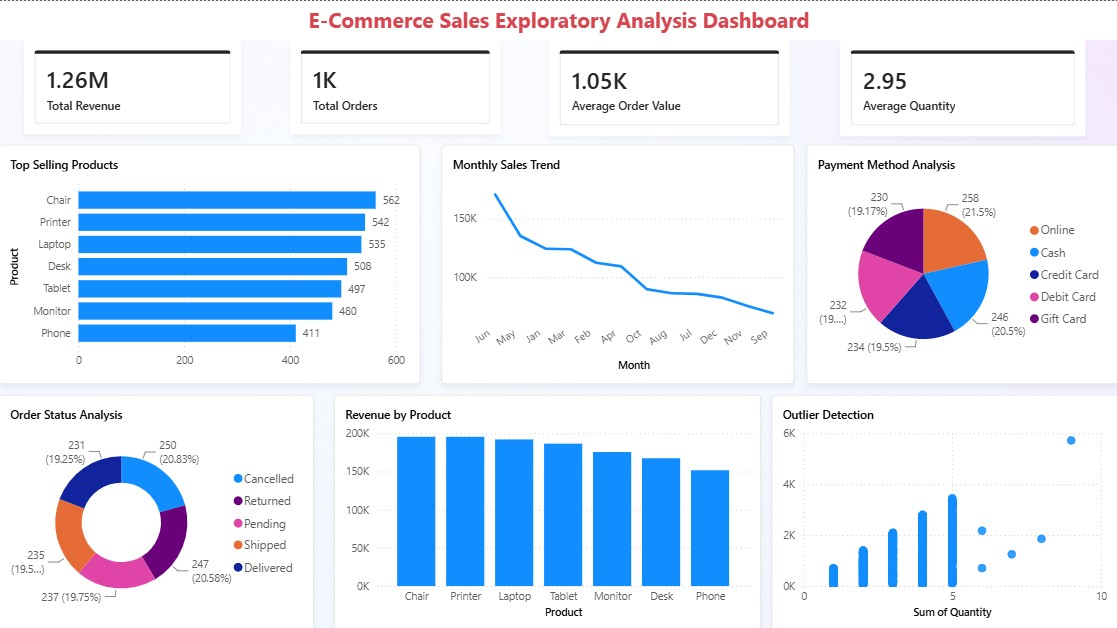

This screenshot's page, from the dashboard's own definition file:
{"tool":"powerbi","page":{"name":"Page 1","canvas":[1280,720],"ordinal":0},"visuals":[{"type":"cardVisual","fields":{"Data":["Sheet1.Total Revenue"]},"box":[28.3,45,248.3,108.3],"z":0},{"type":"cardVisual","fields":{"Data":["Sheet1.Average Quantity"]},"box":[961.7,45,280,110],"z":1},{"type":"cardVisual","fields":{"Data":["Sheet1.Average Order Value"]},"box":[628.3,45,275,110],"z":2},{"type":"cardVisual","fields":{"Data":["Sheet1.Total Orders"]},"box":[333.3,45,240,108.3],"z":3},{"type":"clusteredBarChart","title":"Top Selling Products","fields":{"Category":["Sheet1.Product"],"Y":["Sum(Sheet1.Quantity)"]},"box":[0,165,481.7,273.3],"z":4},{"type":"columnChart","title":"Revenue by Product","fields":{"Category":["Sheet1.Product"],"Y":["Sum(Sheet1.TotalPrice)"]},"box":[383.3,450,488.3,270],"z":5},{"type":"pieChart","title":"Payment Method Analysis","fields":{"Category":["Sheet1.PaymentMethod"],"Y":["CountNonNull(Sheet1.OrderID)"]},"box":[923.3,165,356.7,273.3],"z":6},{"type":"donutChart","title":"Order Status Analysis","fields":{"Category":["Sheet1.OrderStatus"],"Y":["CountNonNull(Sheet1.OrderID)"]},"box":[0,450,360,270],"z":7},{"type":"lineChart","title":"Monthly Sales Trend","fields":{"Category":["Sheet1.Month"],"Y":["Sheet1.Total Revenue"]},"box":[505,165,403.3,273.3],"z":8},{"type":"scatterChart","title":"Outlier Detection","fields":{"X":["Sum(Sheet1.Quantity)"],"Y":["Sum(Sheet1.TotalPrice)"],"Category":["Sheet1.CustomerID"]},"box":[883.3,450,396.7,270],"z":10},{"type":"textbox","box":[0,0,1280,45],"z":11}]}

Visuals, with their boxes in screenshot pixels (x1, y1, x2, y2), scaled from the page's 1280x720 canvas onto the 1117x628 screenshot:
cardVisual - Sheet1.Total Revenue: {"x1": 25, "y1": 39, "x2": 241, "y2": 134}
cardVisual - Sheet1.Average Quantity: {"x1": 839, "y1": 39, "x2": 1084, "y2": 135}
cardVisual - Sheet1.Average Order Value: {"x1": 548, "y1": 39, "x2": 788, "y2": 135}
cardVisual - Sheet1.Total Orders: {"x1": 291, "y1": 39, "x2": 500, "y2": 134}
"Top Selling Products" clusteredBarChart: {"x1": 0, "y1": 144, "x2": 420, "y2": 382}
"Revenue by Product" columnChart: {"x1": 334, "y1": 392, "x2": 761, "y2": 627}
"Payment Method Analysis" pieChart: {"x1": 806, "y1": 144, "x2": 1116, "y2": 382}
"Order Status Analysis" donutChart: {"x1": 0, "y1": 392, "x2": 314, "y2": 627}
"Monthly Sales Trend" lineChart: {"x1": 441, "y1": 144, "x2": 793, "y2": 382}
"Outlier Detection" scatterChart: {"x1": 771, "y1": 392, "x2": 1116, "y2": 627}
textbox: {"x1": 0, "y1": 0, "x2": 1116, "y2": 39}
